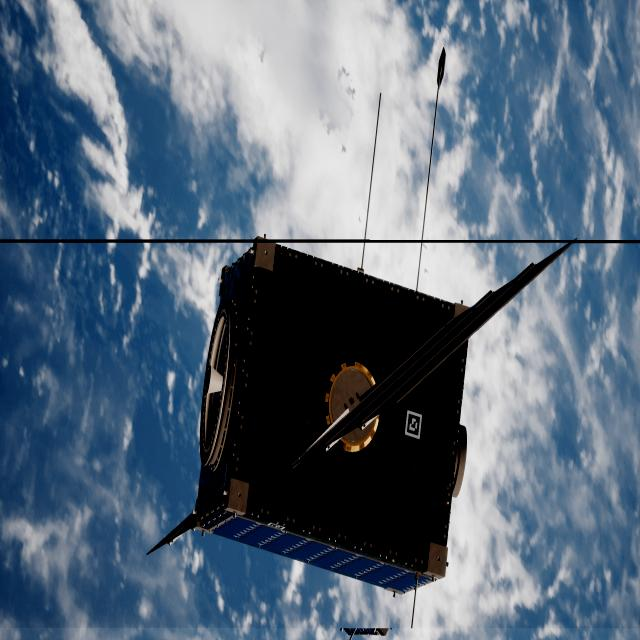satellite: (151, 239, 581, 596)
